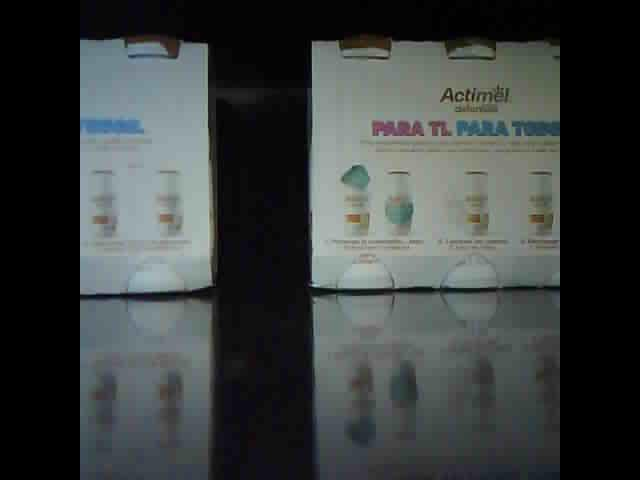actimel: (309, 37, 560, 292), (80, 35, 216, 295)
